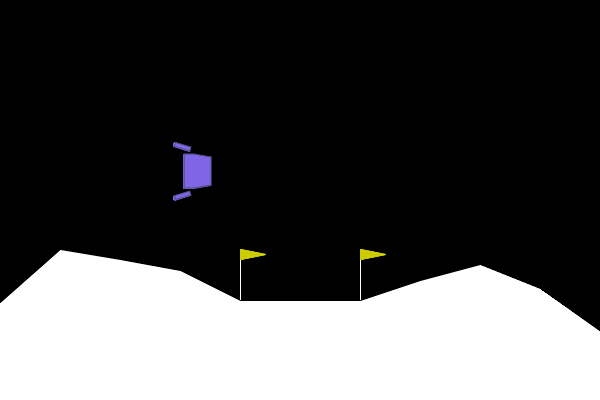lander: (173, 141, 213, 201)
